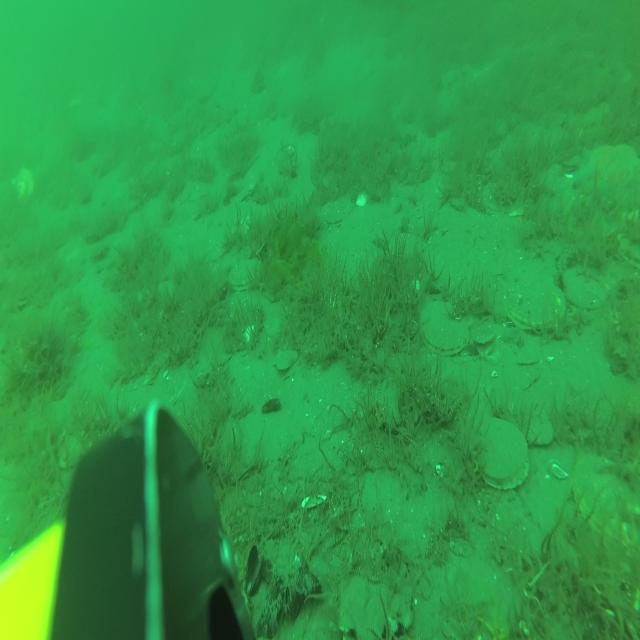scallop: (573, 449, 639, 548), (476, 417, 528, 492), (506, 276, 565, 332), (421, 300, 469, 357), (567, 268, 611, 310), (228, 256, 262, 290), (322, 197, 353, 227), (11, 164, 35, 202), (528, 417, 554, 446), (619, 234, 640, 268), (474, 324, 495, 354), (274, 347, 298, 370)
starfish: (586, 140, 640, 182)
